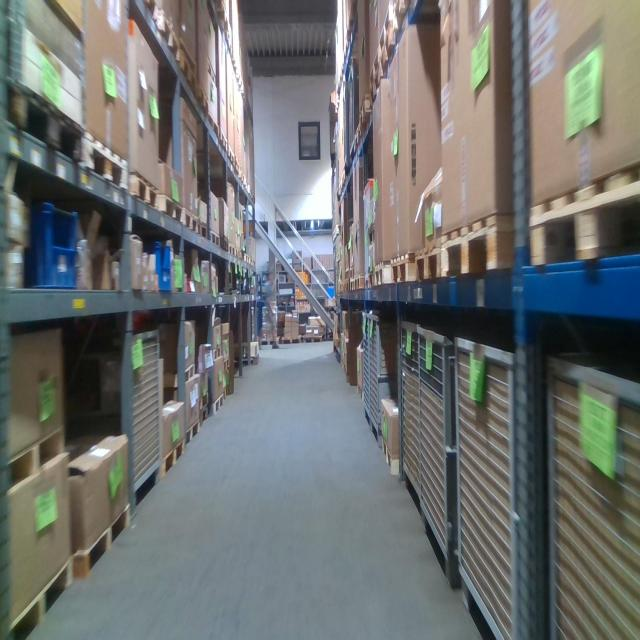pallet: (524, 165, 636, 291), (442, 211, 517, 290), (74, 499, 131, 588), (14, 413, 68, 500), (25, 86, 84, 165), (14, 559, 72, 638), (82, 130, 130, 195), (418, 232, 447, 290), (149, 19, 180, 64), (129, 170, 159, 214), (160, 431, 185, 483), (391, 251, 417, 297), (161, 359, 195, 391), (175, 42, 198, 89), (158, 190, 185, 227), (381, 19, 400, 71), (372, 256, 393, 297), (378, 5, 396, 47), (372, 57, 387, 103), (368, 48, 384, 90), (194, 79, 210, 121), (184, 415, 200, 452), (383, 438, 399, 475), (203, 53, 218, 87), (207, 392, 225, 420), (181, 206, 197, 235), (207, 111, 221, 142), (360, 94, 372, 130), (209, 346, 224, 366), (219, 126, 229, 156), (210, 227, 222, 251), (196, 220, 208, 242), (259, 336, 279, 348), (197, 404, 207, 427), (281, 334, 301, 345), (303, 334, 325, 344), (353, 275, 365, 293), (355, 127, 364, 148), (220, 235, 228, 251), (223, 357, 231, 372), (367, 229, 374, 244), (341, 169, 346, 190), (229, 243, 236, 258), (357, 383, 363, 399), (344, 268, 350, 279), (349, 268, 356, 277), (345, 279, 348, 293)
small_load_carrier: (23, 197, 80, 292), (145, 240, 174, 296)
stillage: (542, 342, 639, 639), (453, 332, 542, 638), (97, 326, 165, 518), (421, 320, 463, 591), (401, 312, 423, 526), (369, 310, 402, 445), (362, 311, 372, 428)
